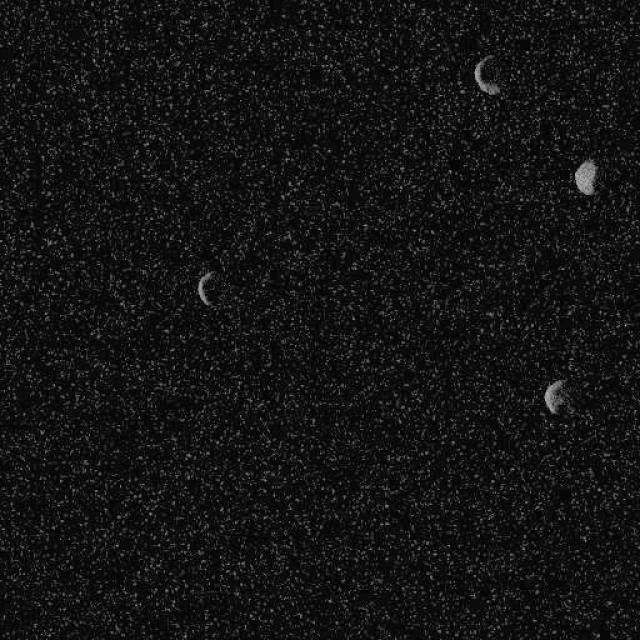D2: (472, 52, 502, 96), (542, 378, 574, 417), (574, 159, 598, 195), (196, 269, 216, 309)
